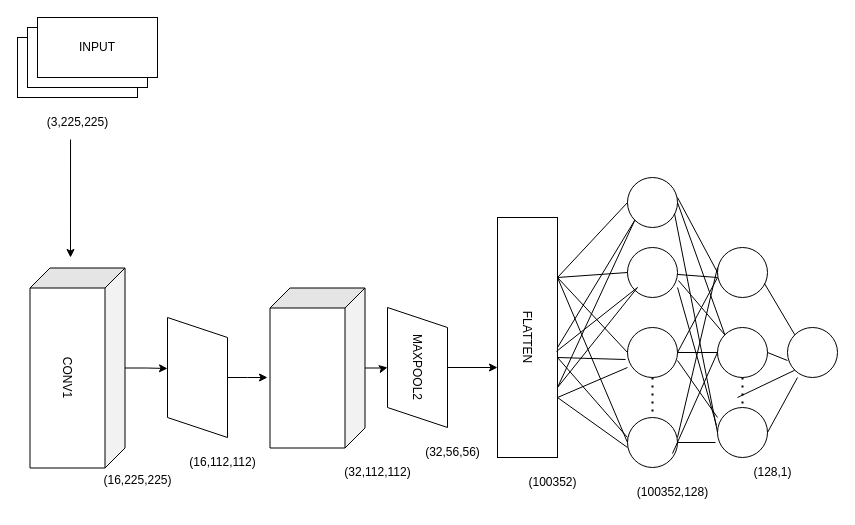
This 855x525 diagram has some shape labels left out. Each missing label, with the centre of its shape:
"CONV2" goes at point 317,367.
"MAXPOOL" goes at point 197,377.
